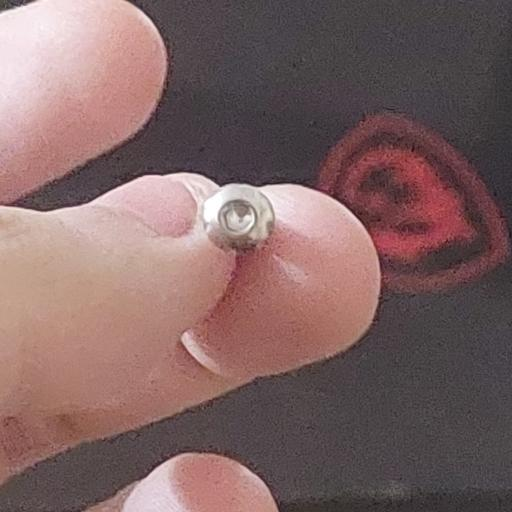Hex-Allen: (201, 182, 274, 259)
